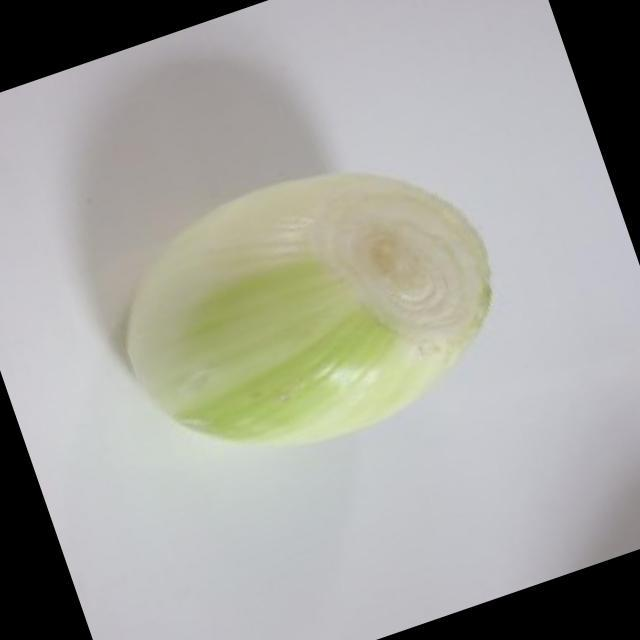Onion: (126, 172, 493, 444)
